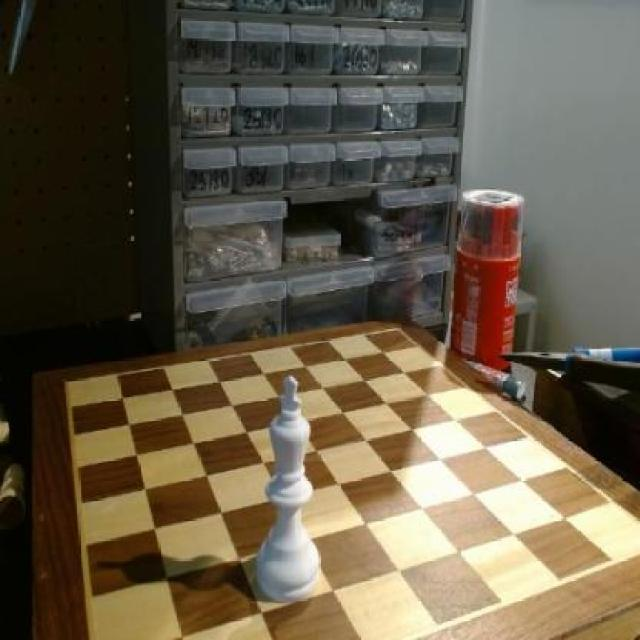white-bishop: (254, 372, 328, 612)
